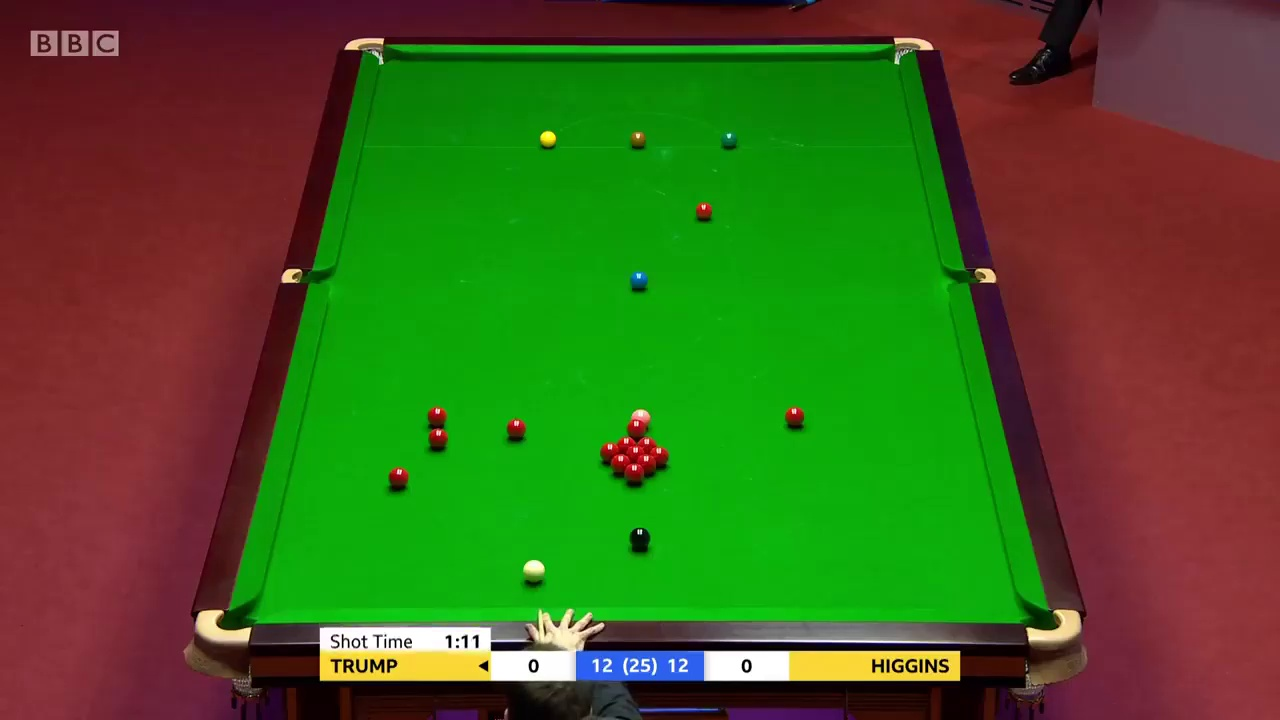ball: (521, 559, 547, 583), (627, 525, 654, 547), (386, 468, 412, 488), (626, 272, 650, 293), (539, 128, 562, 149), (427, 429, 451, 448), (505, 420, 528, 439), (621, 466, 644, 484), (784, 404, 805, 423), (693, 203, 712, 222), (627, 131, 647, 149), (720, 131, 739, 149)
